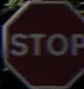Stop: (3, 7, 80, 74)
